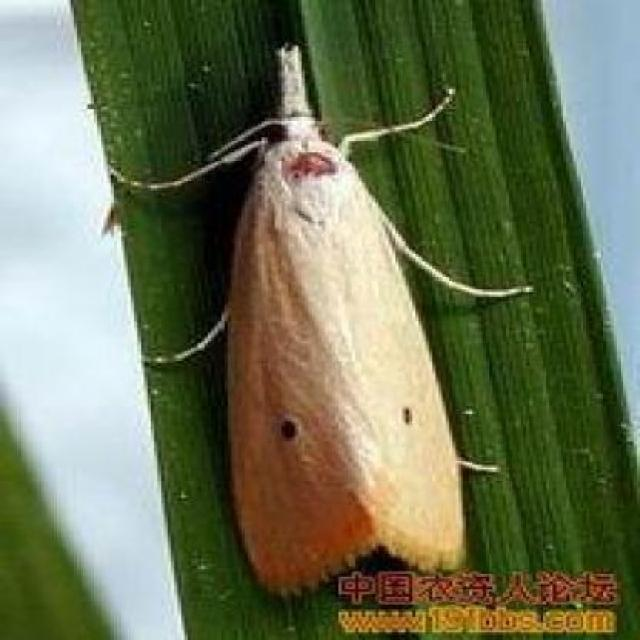stem-borer: (164, 40, 496, 562)
